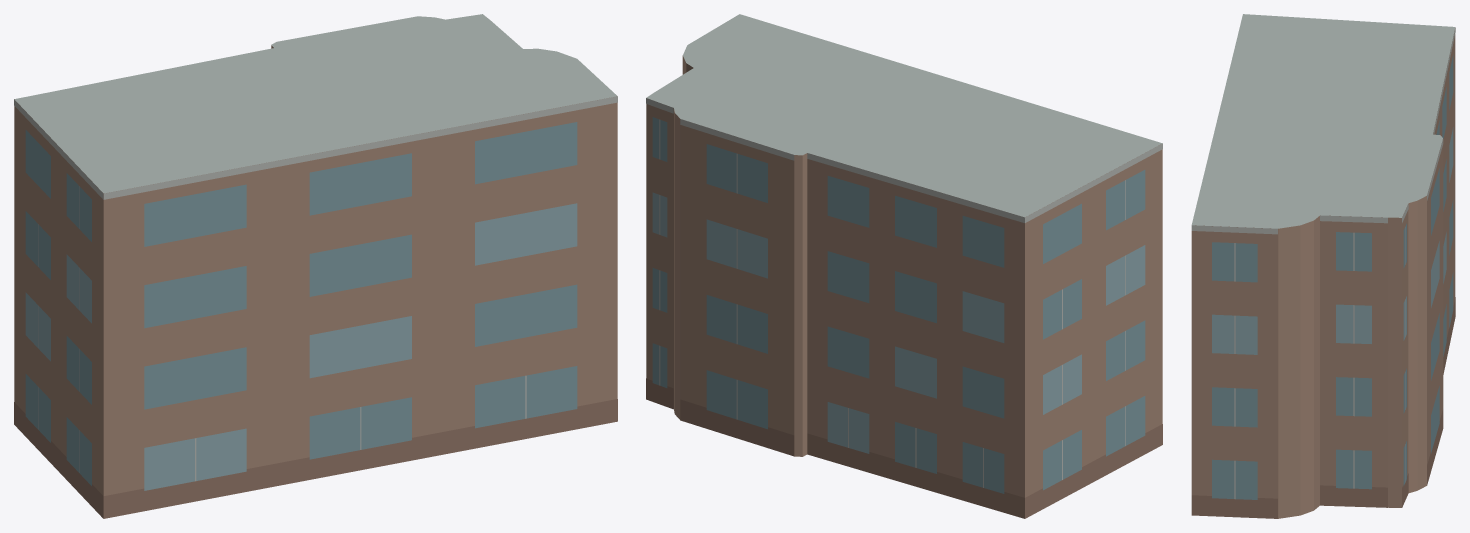
File: survey-upis-33042101.glb
3 views of the same model, side by side, from view 1: azimuth 30°, elevation 25°; view 2: azimuth 150°, elevation 25°; view 3: azimuth 270°, elevation 25° (orthographic). The views are drawn at different scales.
Parts seen in each view (by area): view 1: survey-upis-33042101.tmp; view 2: survey-upis-33042101.tmp; view 3: survey-upis-33042101.tmp.
Boxes of the visible parts, x1,y1,x2,y2 form: survey-upis-33042101.tmp: (14, 14, 617, 518); survey-upis-33042101.tmp: (646, 14, 1162, 518); survey-upis-33042101.tmp: (1191, 14, 1455, 518).
Size of the model in its own units: 19.85 by 12.5 by 10.31.
